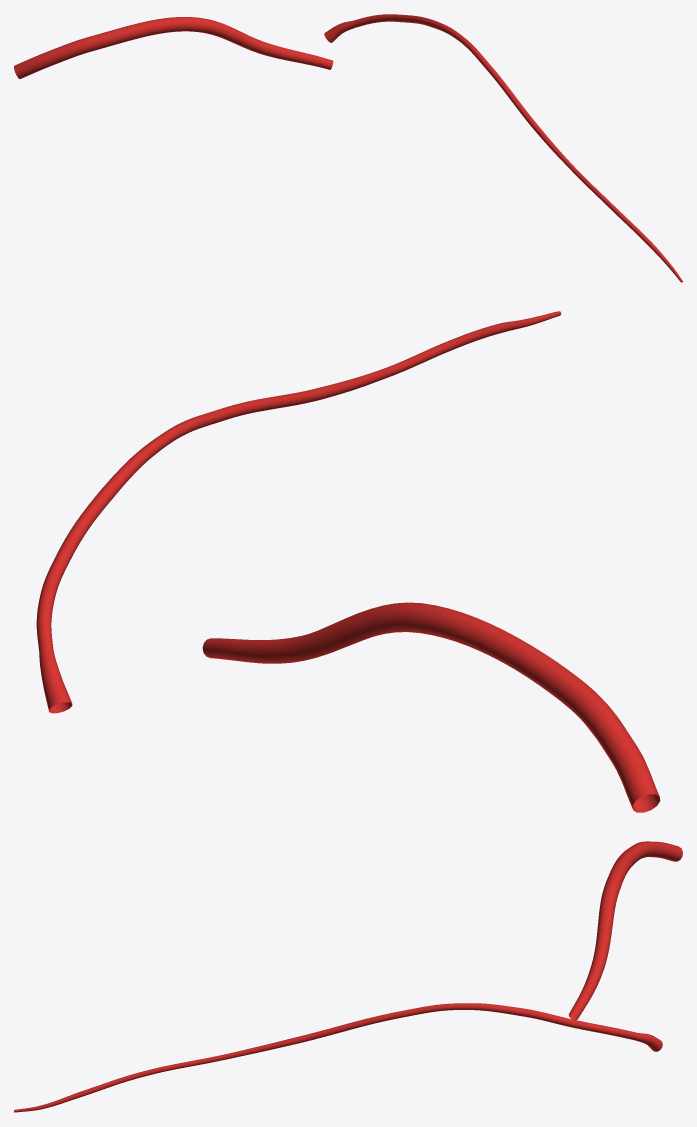
Rendered from circulatorio-artery-of-pterygoid-canal-r.glb.
3 views of the same model, one above another, from view 1: azimuth 30°, elevation 25°; view 2: azimuth 150°, elevation 25°; view 3: azimuth 270°, elevation 25° (orthographic). The views are drawn at different scales.
Parts seen in each view (by area): view 1: Artery of pterygoid canal.r, ?x.r; view 2: Artery of pterygoid canal.r, ?x.r; view 3: ?x.r, Artery of pterygoid canal.r.
Part boxes in pixels (x1,y1,x2,y2): Artery of pterygoid canal.r: (14,17,333,78); ?x.r: (324,14,682,282); Artery of pterygoid canal.r: (202,602,660,812); ?x.r: (36,311,561,713); ?x.r: (14,1003,662,1112); Artery of pterygoid canal.r: (568,841,682,1019).
Size of the model in its own units: 0.0335 by 0.0101 by 0.0502.
